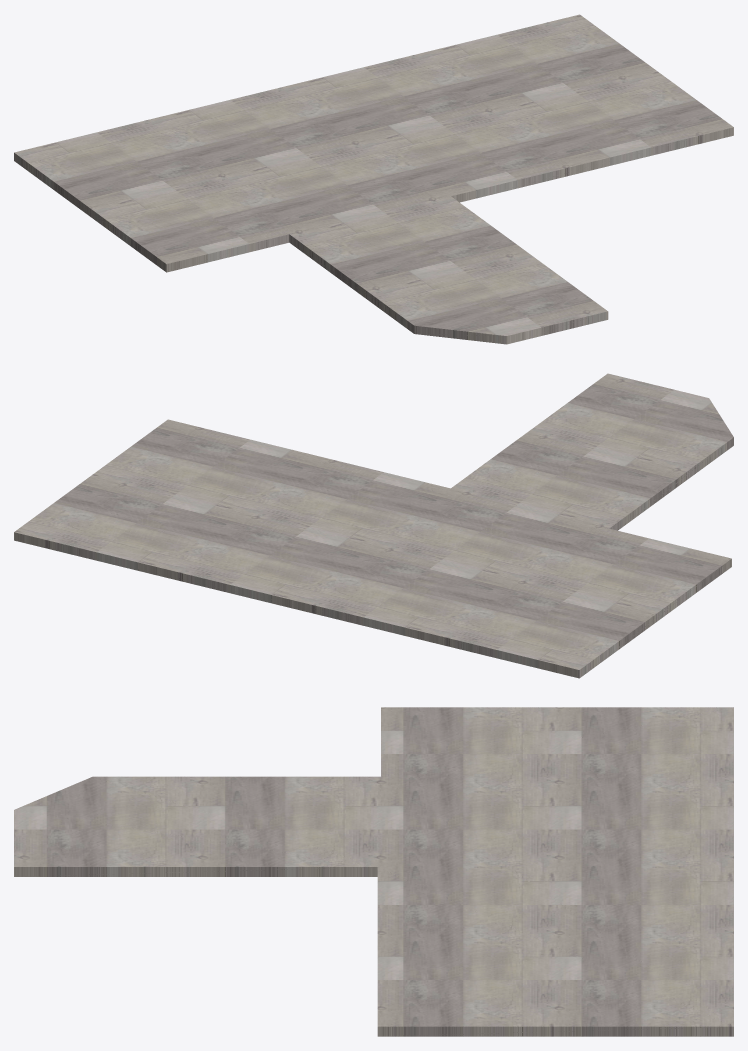
Rendered from Floor_WatercrestPinePlusReclaimedPine.glb.
3 renders of one model, top to bottom at view 1: azimuth 30°, elevation 25°; view 2: azimuth 150°, elevation 25°; view 3: azimuth 270°, elevation 25°, orthographic. The views are drawn at different scales.
Parts seen in each view (by area): view 1: Floor_Watercrest Pine Plus Reclaimed Pine; view 2: Floor_Watercrest Pine Plus Reclaimed Pine; view 3: Floor_Watercrest Pine Plus Reclaimed Pine.
Boxes of the visible parts, box(x1,y1,x2,y2) form: Floor_Watercrest Pine Plus Reclaimed Pine: box(14, 14, 733, 344); Floor_Watercrest Pine Plus Reclaimed Pine: box(14, 373, 733, 678); Floor_Watercrest Pine Plus Reclaimed Pine: box(14, 707, 733, 1036).
Size of the model in its own units: 21.2 by 0.3 by 20.2.
1 material, 1 textured.
